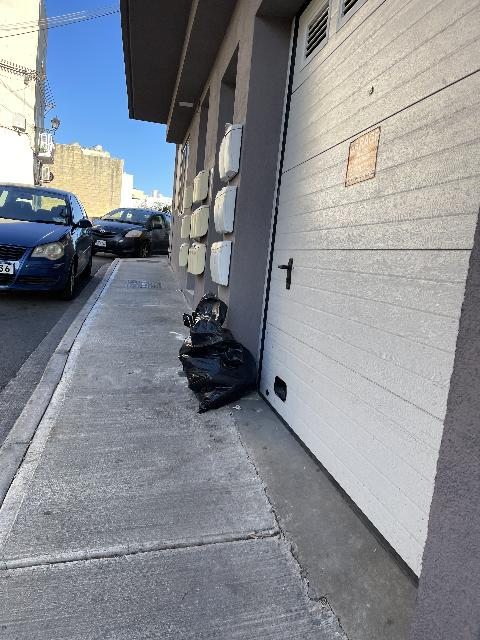Mixed -Black-: (179, 292, 256, 413)
